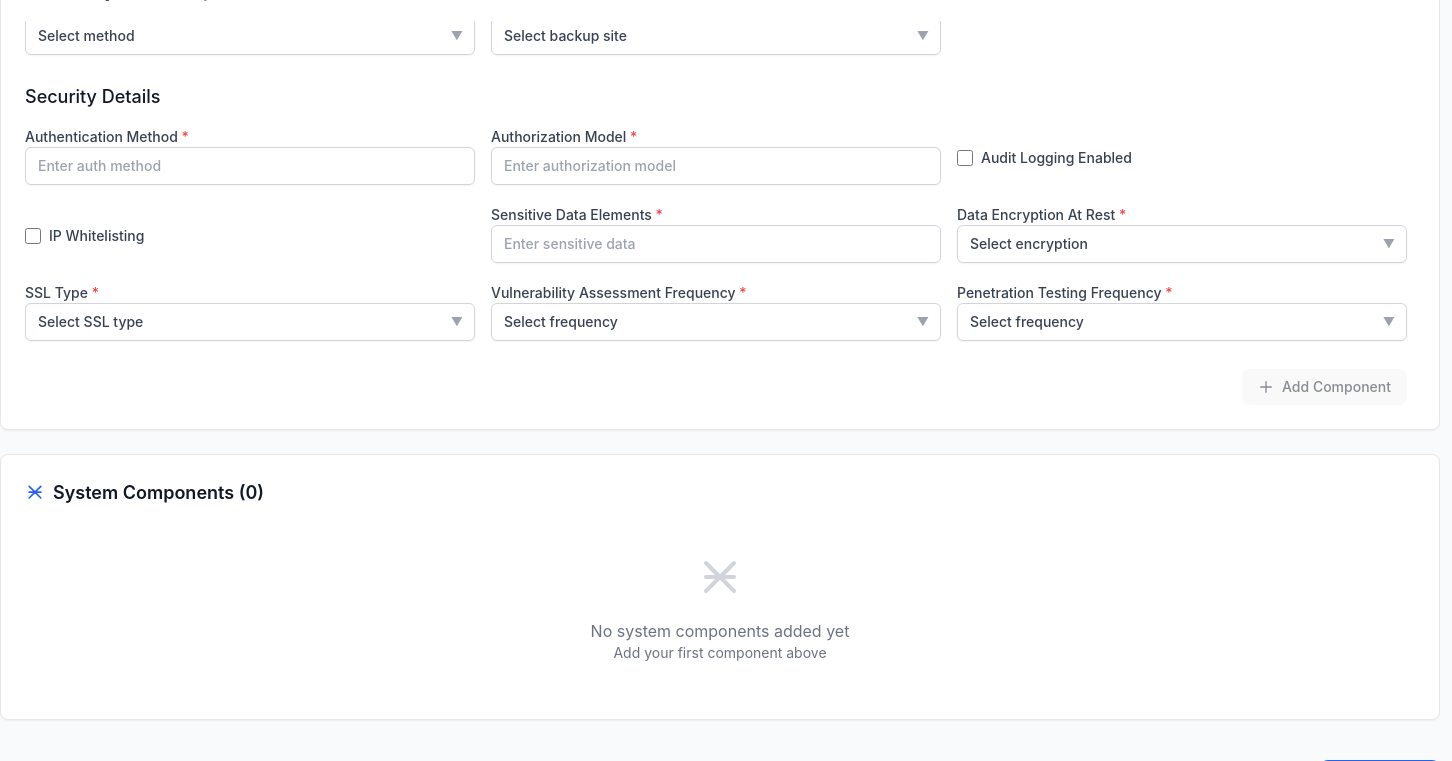
Test case: SystemComponentStep › Component Management › adds new component when add button clicked
(page scrolled)
Click the button "Add Component". click: (1324, 387)
box: 1242,369 -> 1407,405
(page scrolled)
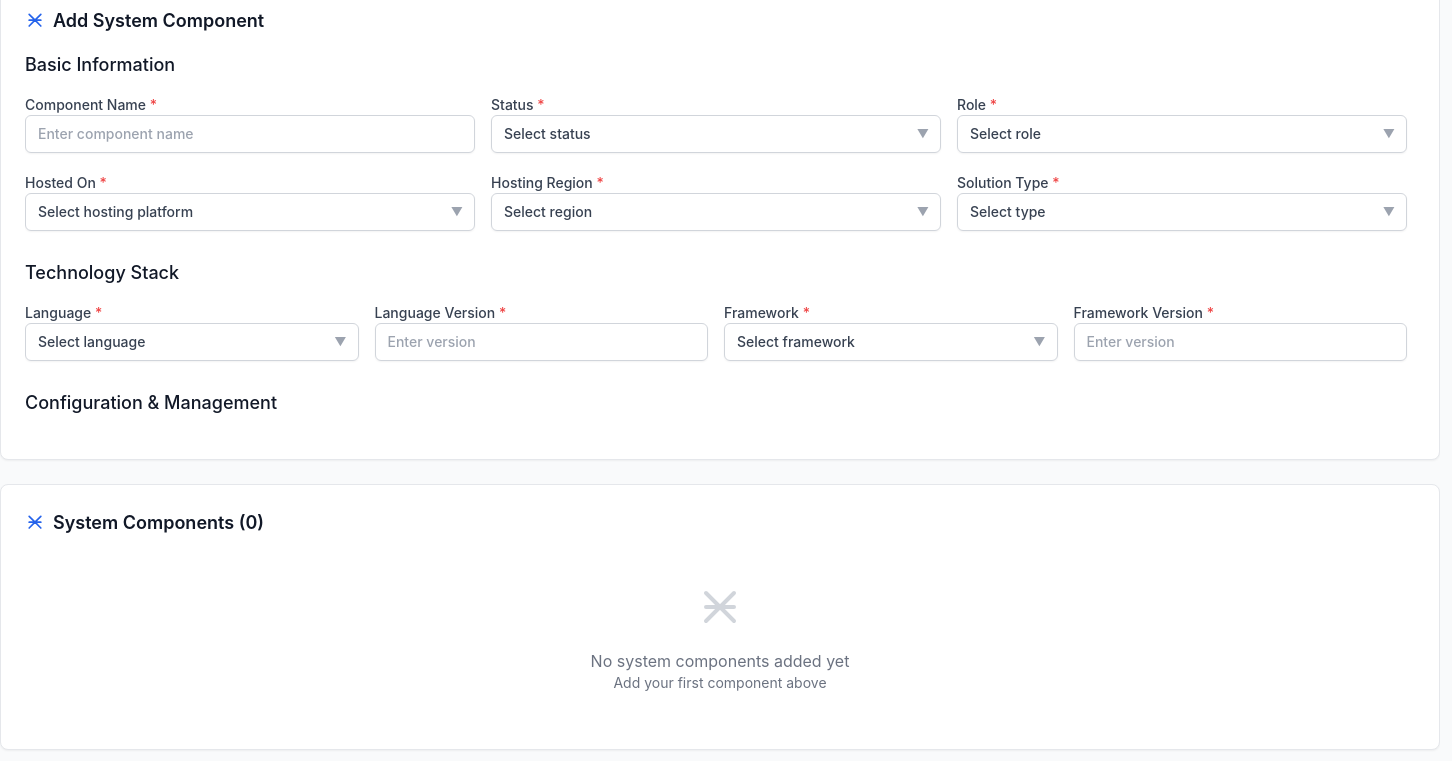
Result: the field with placeholder "Enter component name" is shown at 25,115 -> 475,153
